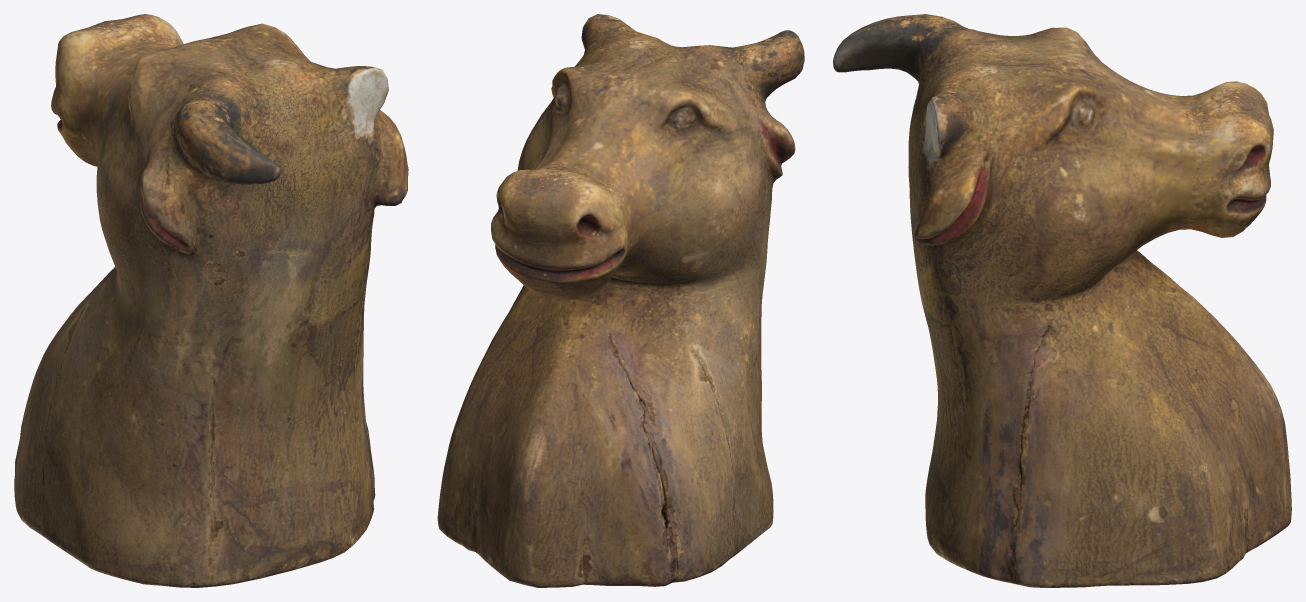
File: MTY004594.glb
The picture shows the model from 3 angles, left to right: view 1: azimuth 30°, elevation 25°; view 2: azimuth 150°, elevation 25°; view 3: azimuth 270°, elevation 25°; orthographic projection. The views are drawn at different scales.
Visible parts, largest first — view 1: MTY004594; view 2: MTY004594; view 3: MTY004594.
Boxes of the visible parts, left/top/right/bottom form: MTY004594: left=14, top=14, right=408, bottom=587; MTY004594: left=437, top=14, right=804, bottom=587; MTY004594: left=833, top=14, right=1291, bottom=587.
Size of the model in its own units: 38.62 by 61.89 by 54.19.
Materials: 1 (1 with a texture image).
